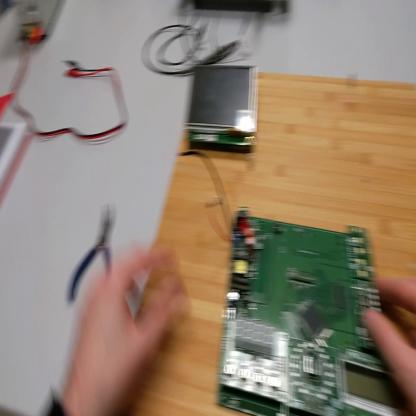hand: (64, 240, 189, 416), (365, 274, 416, 400)
low voltage board: (178, 153, 390, 416)
oscilloscope probe tip: (178, 38, 239, 81)
pliers: (68, 207, 114, 306)
power supply: (16, 2, 62, 42)
register: (1, 94, 36, 209)
working area: (126, 81, 416, 415)
